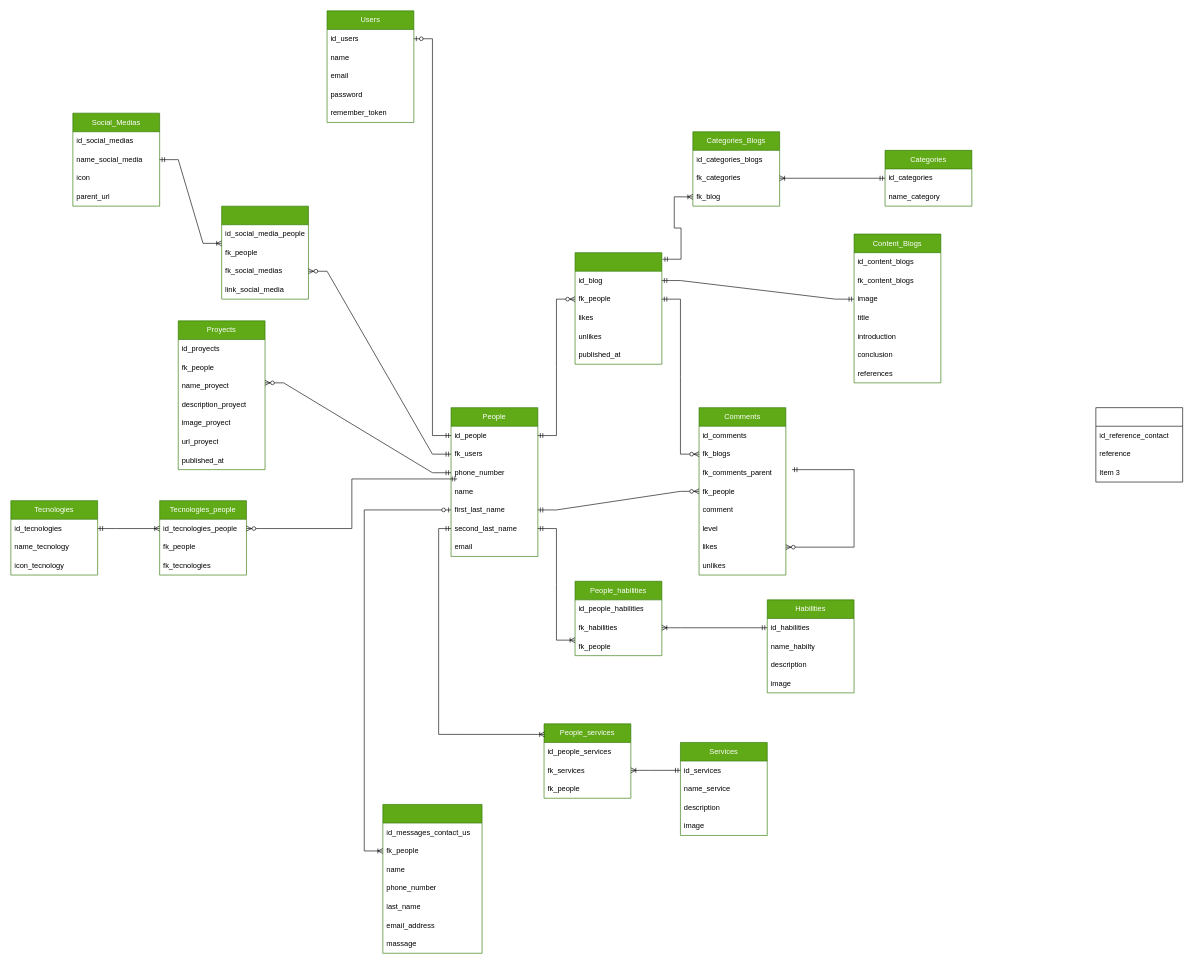
Some shapes in this 1194 by 964 pixel diagram are drawn without their labels. The box of each missing label's shape, as (x1, y1, x2, y2) in pixels:
Blogs: (574, 252, 662, 364)
Messages_Contac_us: (382, 804, 482, 953)
References_Contact: (1095, 407, 1183, 482)
Social_medias_people: (221, 206, 308, 299)
